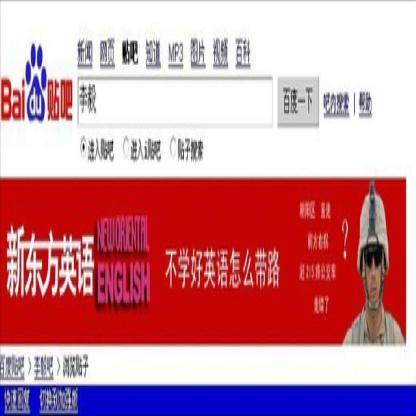Helmet: (359, 203, 394, 331)
